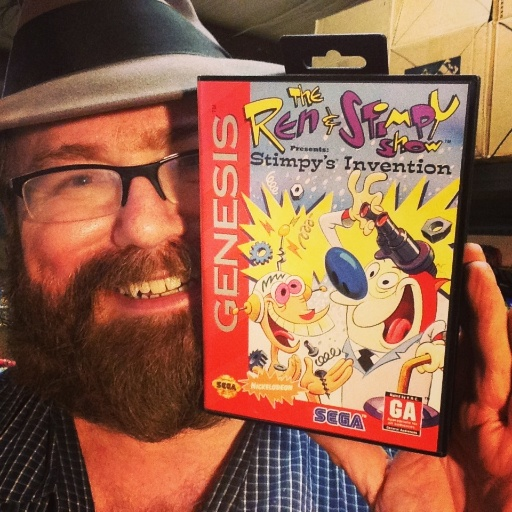hand: (296, 238, 510, 510)
